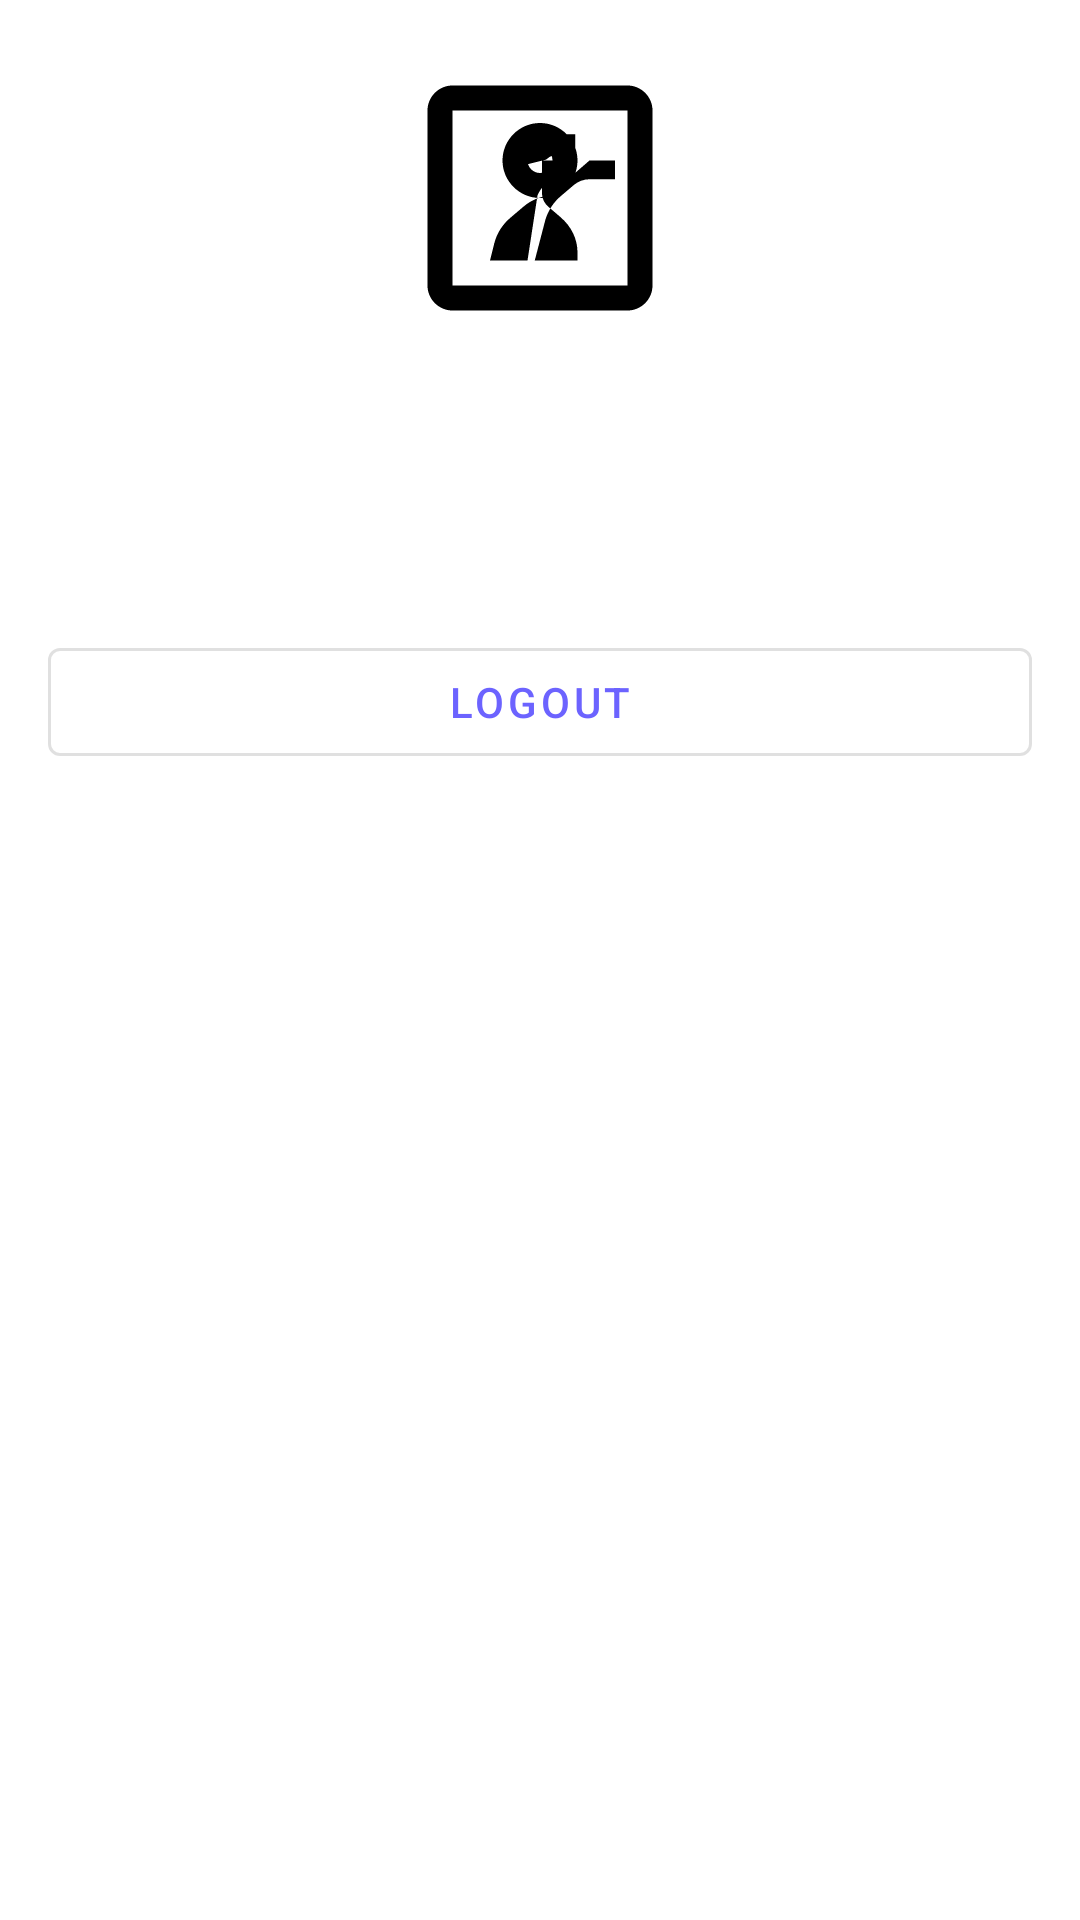

Point at icon controls on the screen. Image size 1080px x 1920px, points as [x,y].
account: [540,198]
